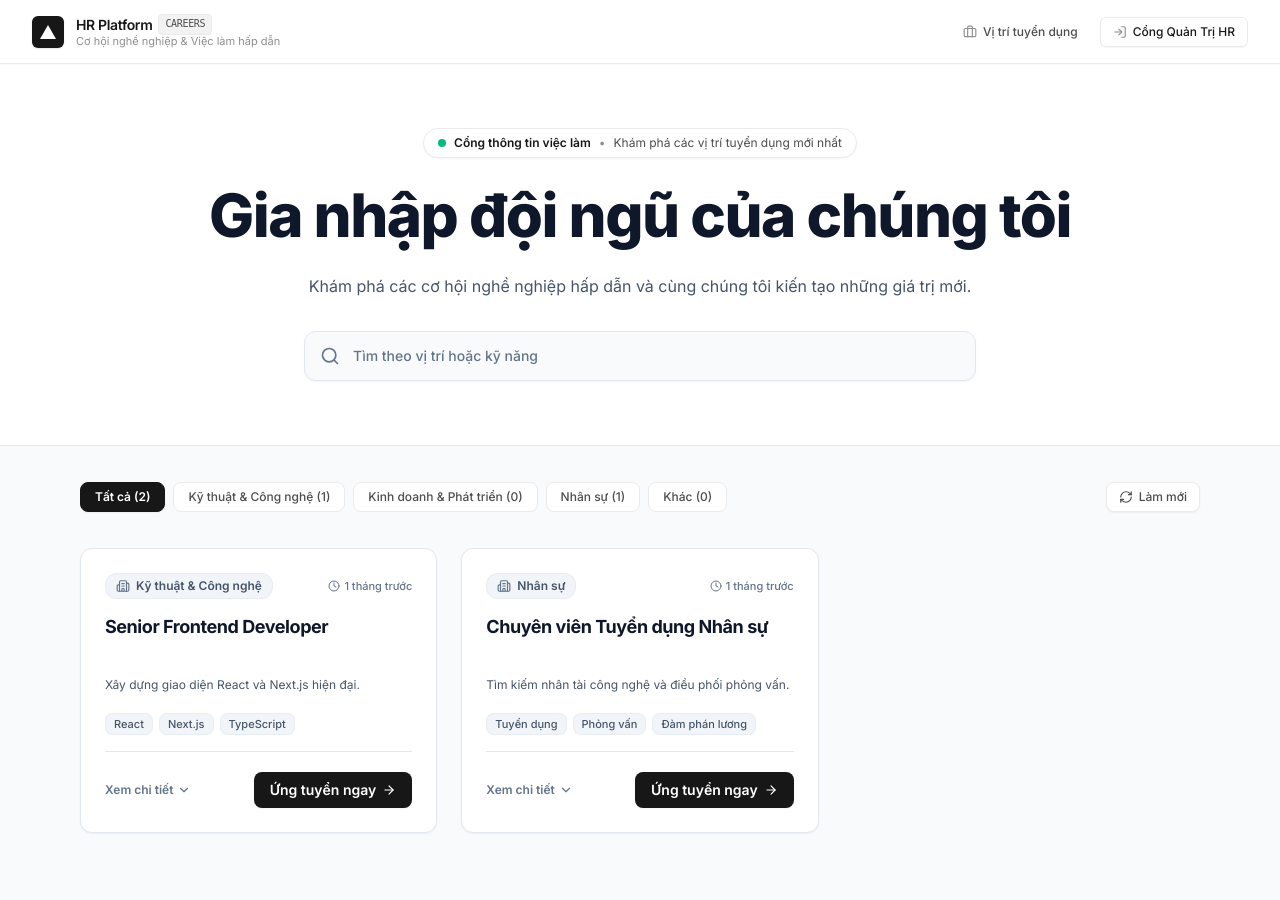
Test: CareersClient › tìm kiếm không phân biệt dấu tiếng Việt
Note: Gõ không dấu 'nhan su'
In the field with placeholder "Tìm theo vị trí hoặc kỹ năng": (640, 356) [304,331,976,381], type "nhan su"
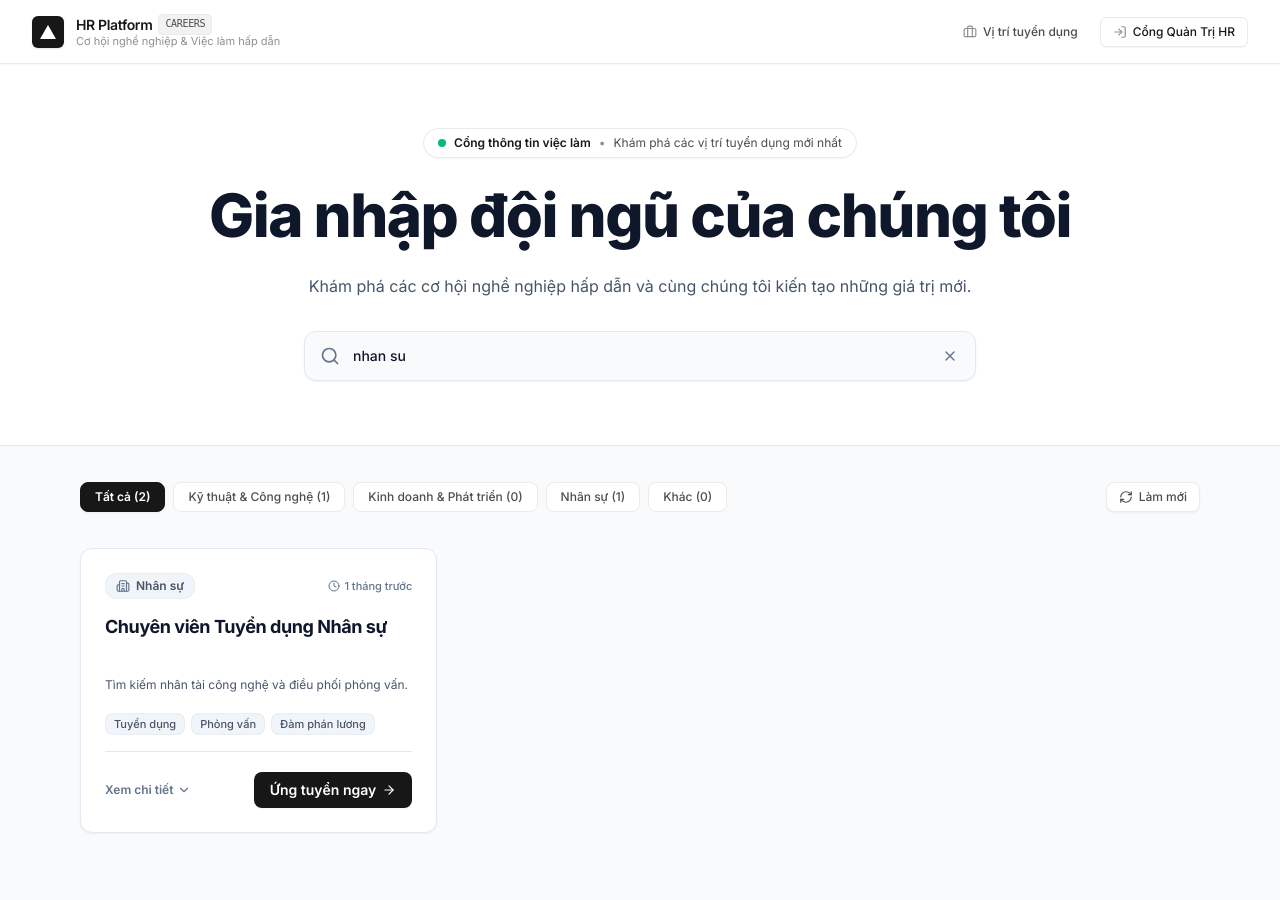
Expected: the heading "Chuyên viên Tuyển dụng Nhân sự" is shown, [105,616,387,637]
Now the heading "Senior Frontend Developer" is gone
